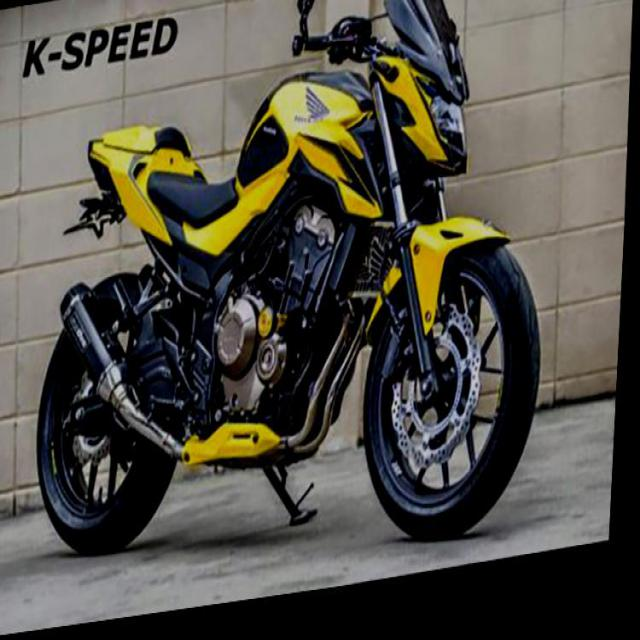CB500F: (29, 0, 564, 618)
